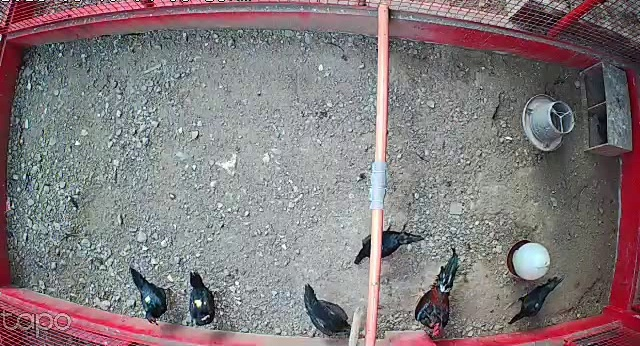Chicken: (300, 281, 363, 340), (351, 220, 425, 267), (506, 273, 566, 328), (129, 267, 174, 328), (182, 266, 220, 329)
Rooster: (413, 245, 465, 339)
Saddle_Color_Yellow: (190, 297, 206, 310)
Saddle_Color_YellowGreen: (143, 293, 154, 305)
